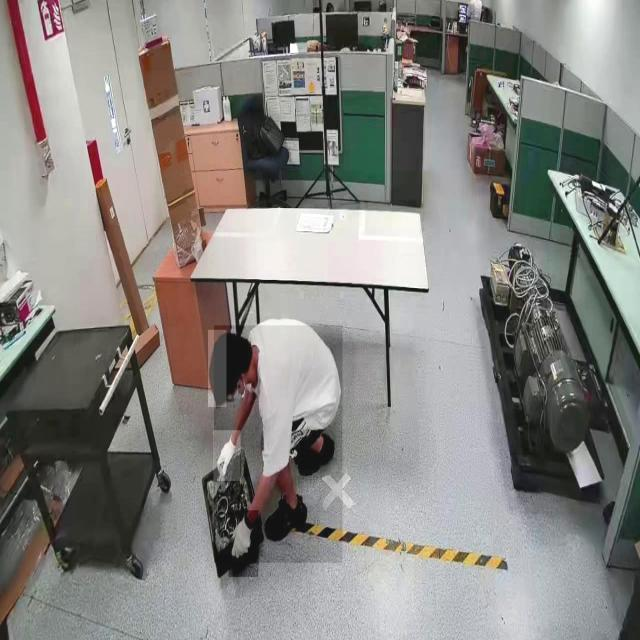hand_glove: (229, 510, 259, 578), (213, 430, 241, 482)
head_nohelmet: (208, 330, 227, 408)
person: (214, 326, 343, 564)
shoes: (262, 494, 309, 544), (294, 431, 340, 477)
